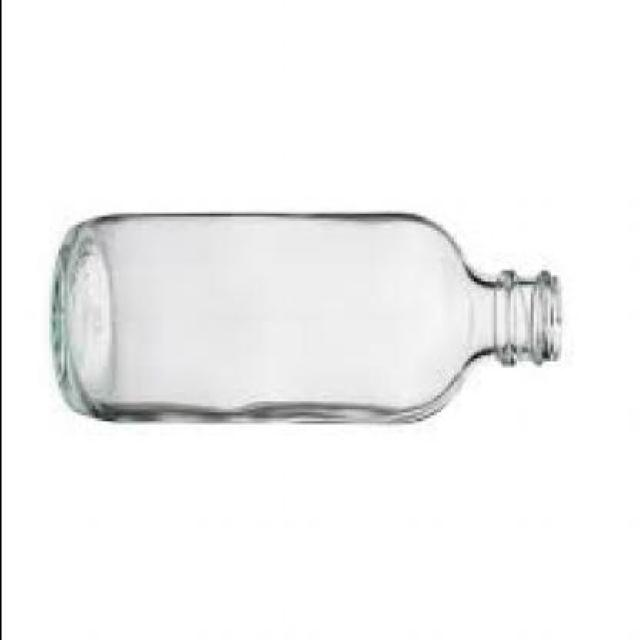glass: (54, 220, 563, 428)
